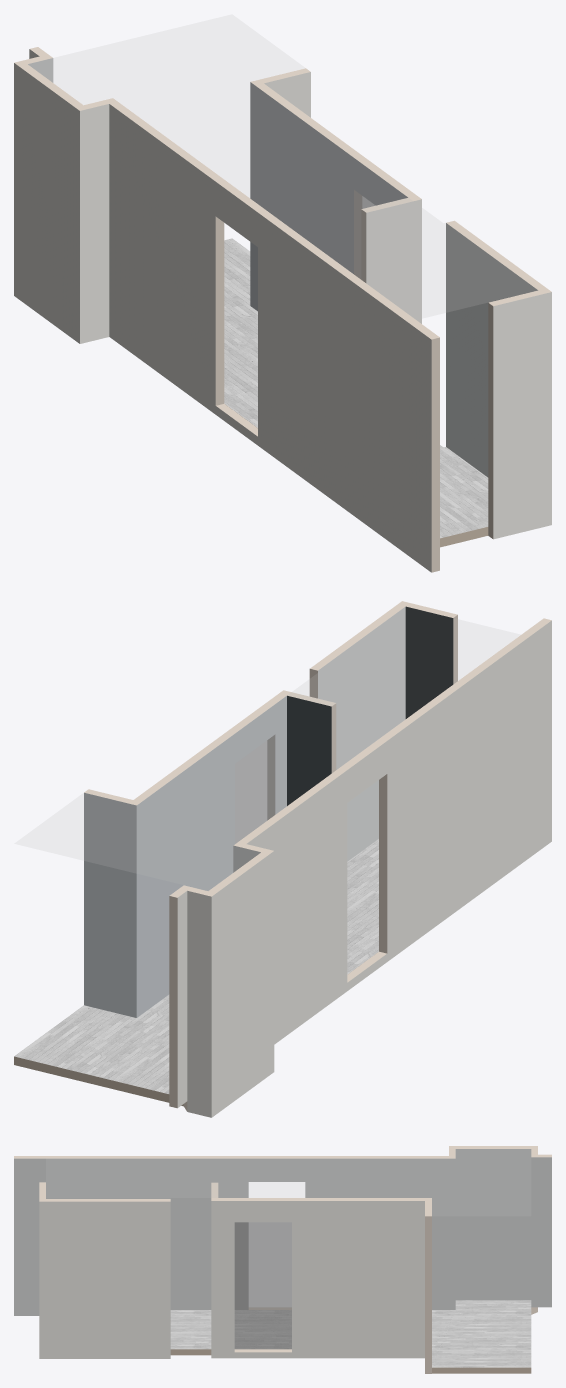
The picture shows the model from 3 angles, top to bottom: view 1: azimuth 30°, elevation 25°; view 2: azimuth 150°, elevation 25°; view 3: azimuth 270°, elevation 25°; orthographic projection. The views are drawn at different scales.
Parts seen in each view (by area): view 1: wall_9 (×3), ceiling_Other_0, wall_2, wall_0 (×2), wall_4 (×2), wall_1 (×2), floor_Other_0, wall_5, wall_8, door_0 (×2), wall_3; view 2: wall_9 (×3), ceiling_Other_0, wall_0 (×3), wall_2, floor_Other_0 (×2), wall_1 (×2), wall_3, door_0 (×2), wall_7, wall_4, wall_6 (×2), wall_8; view 3: wall_9 (×2), wall_0 (×2), ceiling_Other_0, wall_1 (×2), door_0 (×2), wall_2, floor_Other_0 (×2), wall_6, wall_3.
Boxes of the visible parts, x1=… form: wall_9 (×3): x1=109, y1=98, x2=439, y2=572; ceiling_Other_0: x1=28, y1=15, x2=536, y2=319; wall_2: x1=14, y1=63, x2=79, y2=343; wall_0 (×2): x1=250, y1=82, x2=421, y2=311; wall_4 (×2): x1=488, y1=292, x2=551, y2=539; wall_1 (×2): x1=446, y1=220, x2=551, y2=477; floor_Other_0: x1=224, y1=238, x2=488, y2=538; wall_5: x1=80, y1=104, x2=109, y2=343; wall_8: x1=366, y1=199, x2=421, y2=323; door_0 (×2): x1=354, y1=190, x2=374, y2=278; wall_3: x1=264, y1=72, x2=310, y2=117; wall_9 (×3): x1=234, y1=618, x2=551, y2=1044; ceiling_Other_0: x1=15, y1=607, x2=519, y2=890; wall_0 (×3): x1=133, y1=690, x2=286, y2=1017; wall_2: x1=211, y1=851, x2=274, y2=1117; floor_Other_0 (×2): x1=14, y1=839, x2=378, y2=1106; wall_1 (×2): x1=310, y1=601, x2=405, y2=861; wall_3: x1=84, y1=792, x2=136, y2=1017; door_0 (×2): x1=235, y1=735, x2=274, y2=843; wall_7: x1=187, y1=891, x2=211, y2=1117; wall_4: x1=405, y1=606, x2=453, y2=718; wall_6 (×2): x1=169, y1=891, x2=187, y2=1108; wall_8: x1=287, y1=695, x2=331, y2=805; wall_9 (×2): x1=14, y1=1156, x2=455, y2=1315; wall_0 (×2): x1=211, y1=1198, x2=431, y2=1358; ceiling_Other_0: x1=46, y1=1149, x2=530, y2=1215; wall_1 (×2): x1=39, y1=1199, x2=170, y2=1358; door_0 (×2): x1=235, y1=1222, x2=291, y2=1348; wall_2: x1=455, y1=1149, x2=531, y2=1300; floor_Other_0 (×2): x1=170, y1=1300, x2=531, y2=1373; wall_6: x1=531, y1=1157, x2=551, y2=1307; wall_3: x1=425, y1=1216, x2=431, y2=1373.
Bounding box in the file's own units: 2.48 × 2.59 × 8.02.
11 materials, 1 textured.
